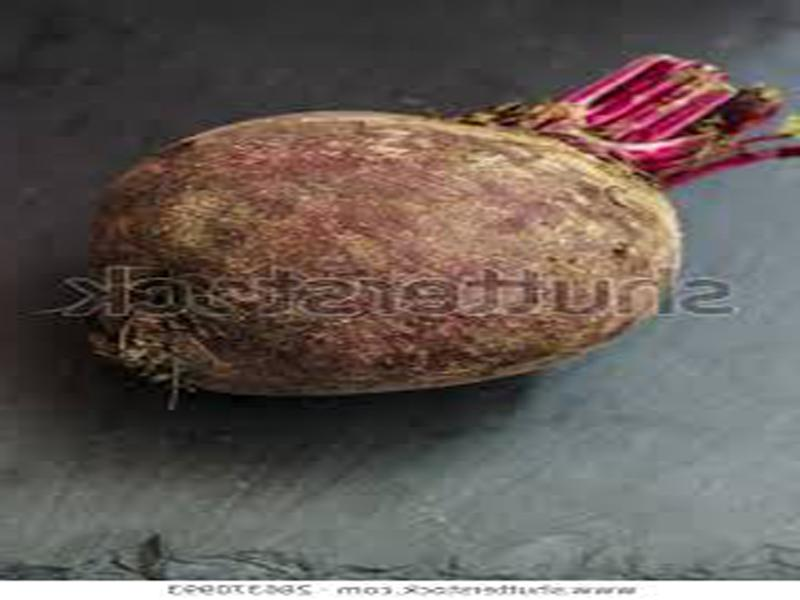Beet: (83, 58, 795, 395)
